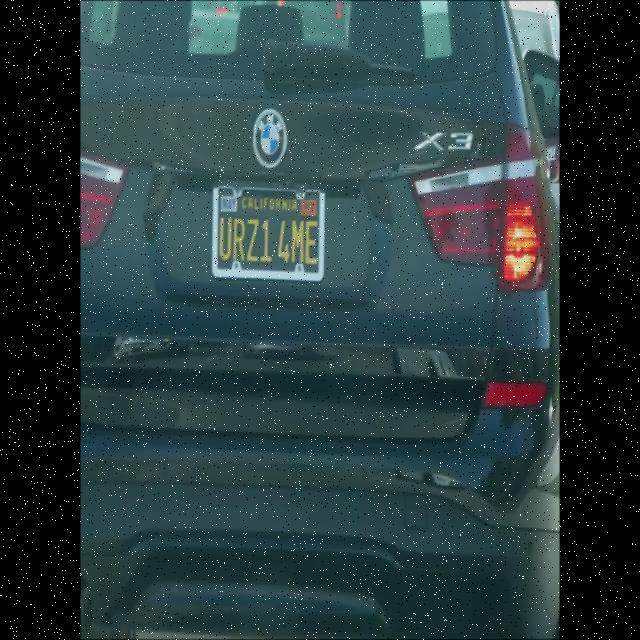licenseplate: (214, 172, 324, 278)
